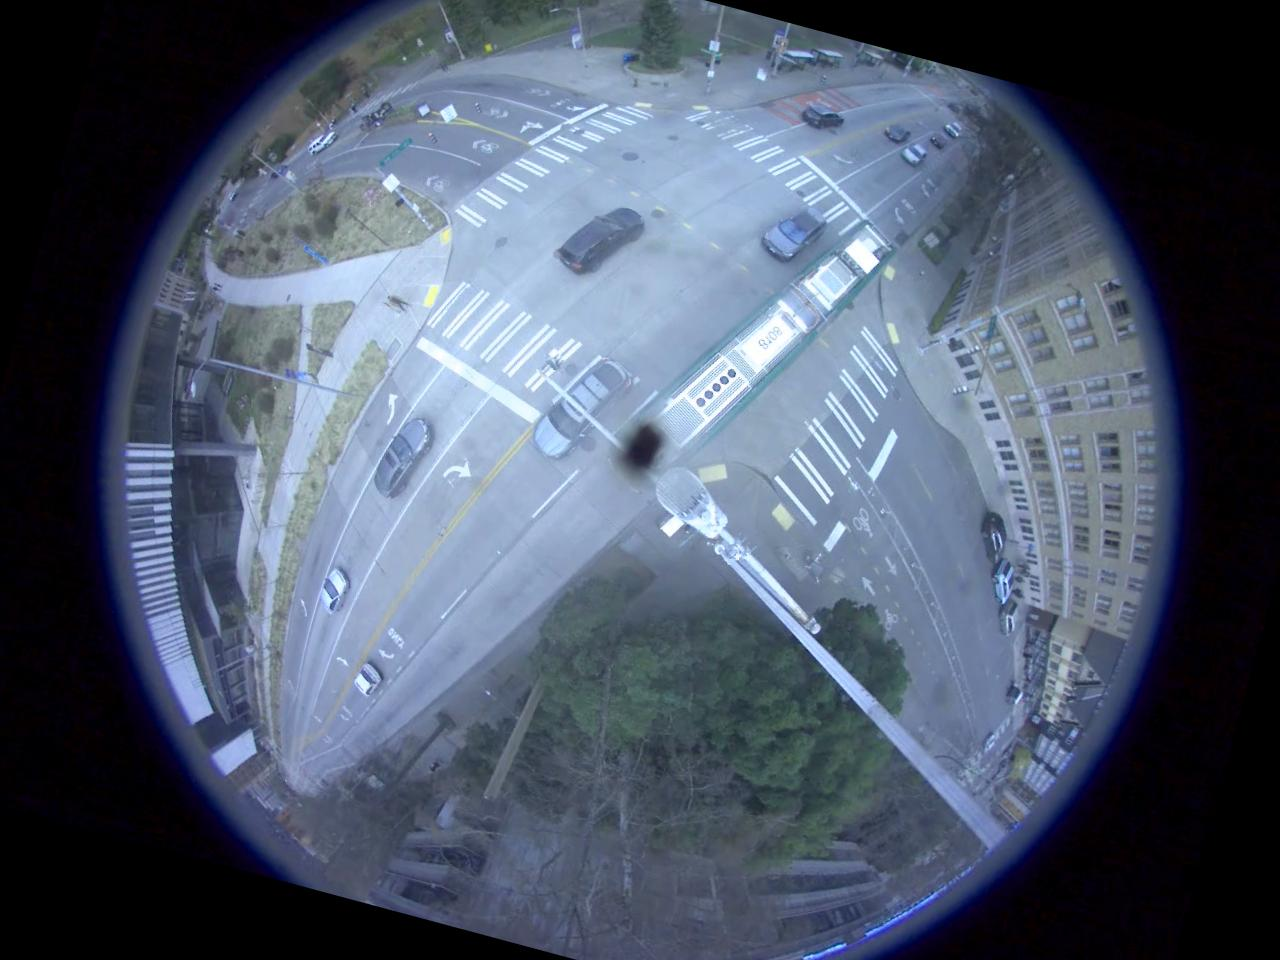bus: (602, 174, 896, 540)
car: (519, 345, 630, 470), (546, 193, 644, 292), (365, 410, 439, 506), (751, 194, 828, 271), (968, 501, 1018, 566), (797, 96, 846, 138), (316, 565, 354, 616), (984, 556, 1021, 606), (348, 658, 388, 704), (890, 138, 929, 175), (990, 599, 1025, 640), (302, 125, 335, 162), (881, 120, 912, 146), (924, 127, 952, 152)
person: (376, 290, 416, 314)
